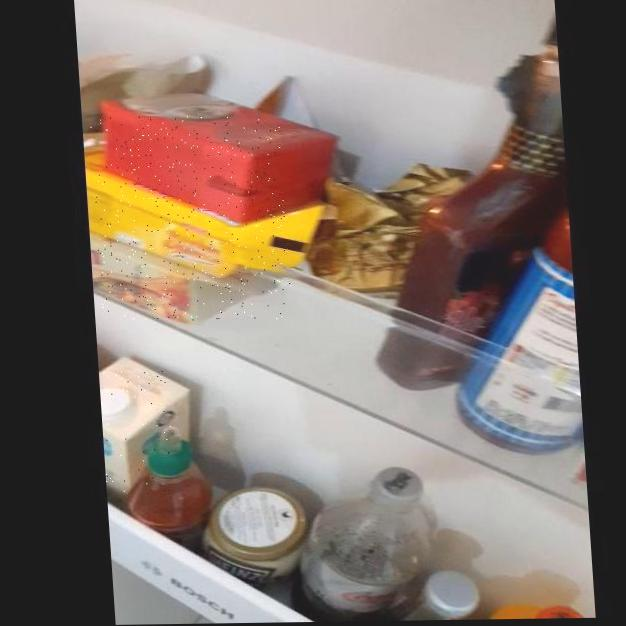butter: (89, 114, 293, 322)
milk: (98, 364, 176, 493)
